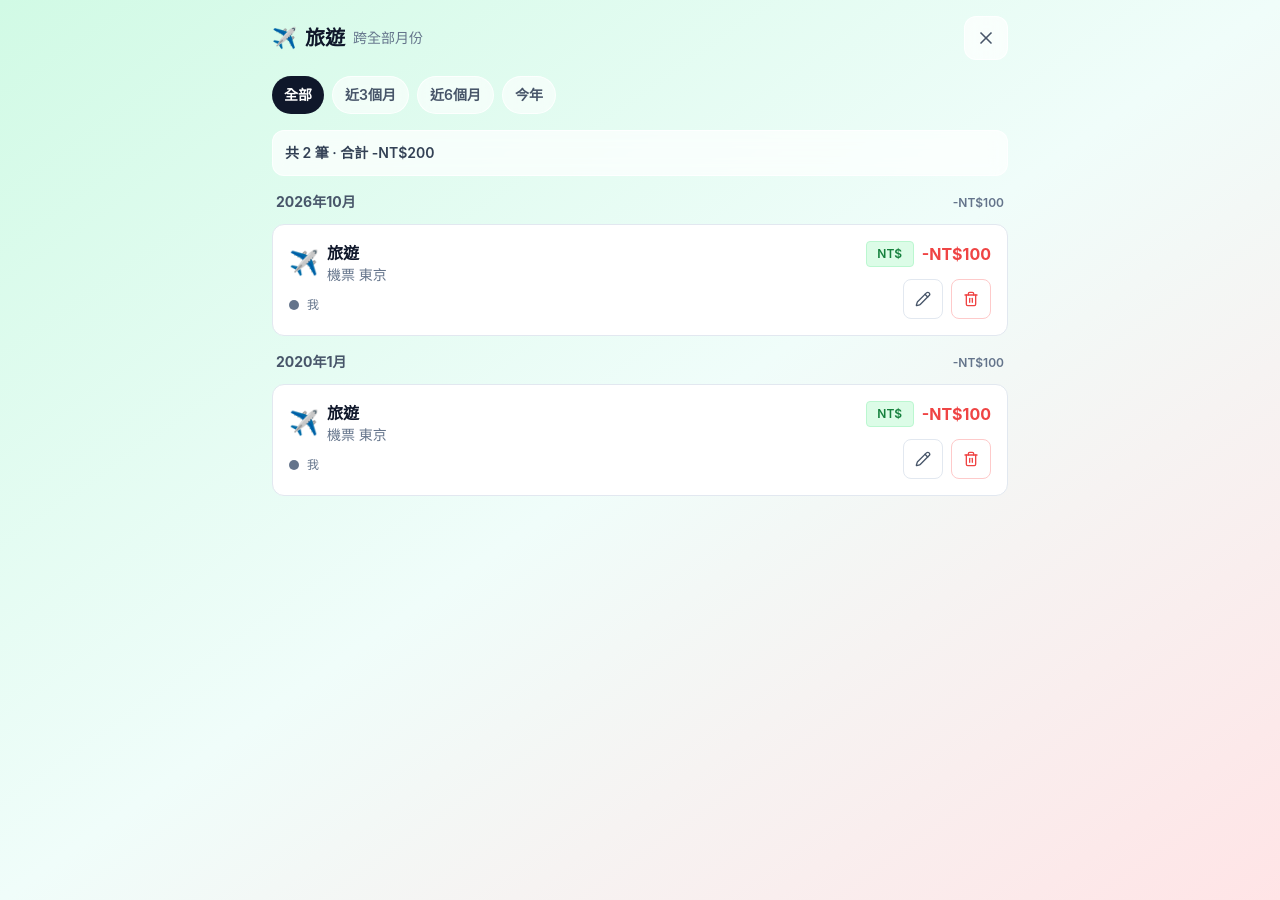
Scenario: 分類模式 › 期間篩選過濾結果
The image size is (1280, 900).
Expected: the text "共 2 筆 · 合計 -NT$200" is shown, [272, 130, 1008, 176]
Step 1. Click the button "近3個月" → (370,95), box [332, 76, 409, 114]
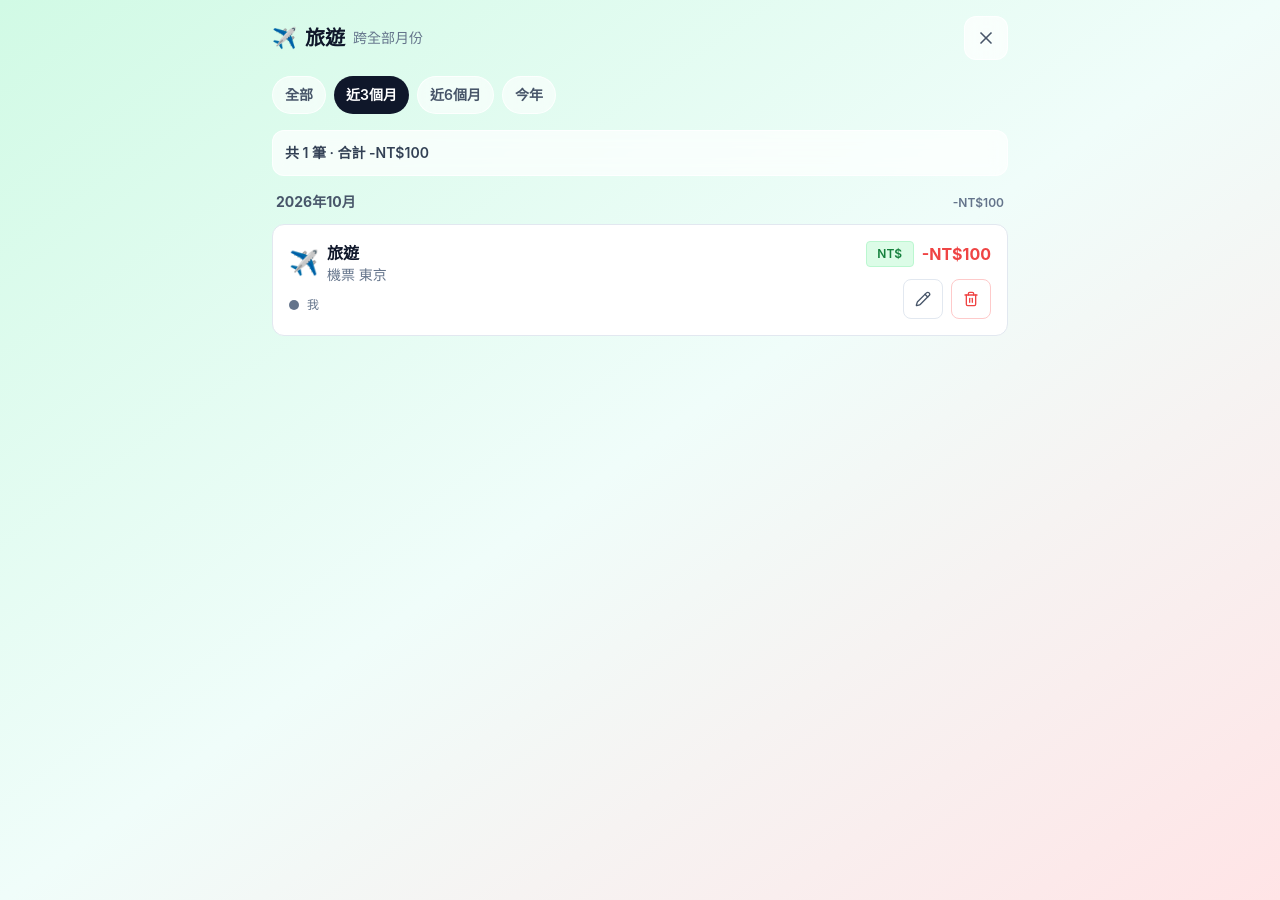
Expected: the text "共 1 筆 · 合計 -NT$100" is shown, [272, 130, 1008, 176]
